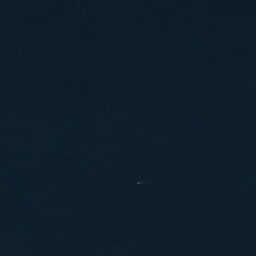Ship: (137, 181, 141, 185)
